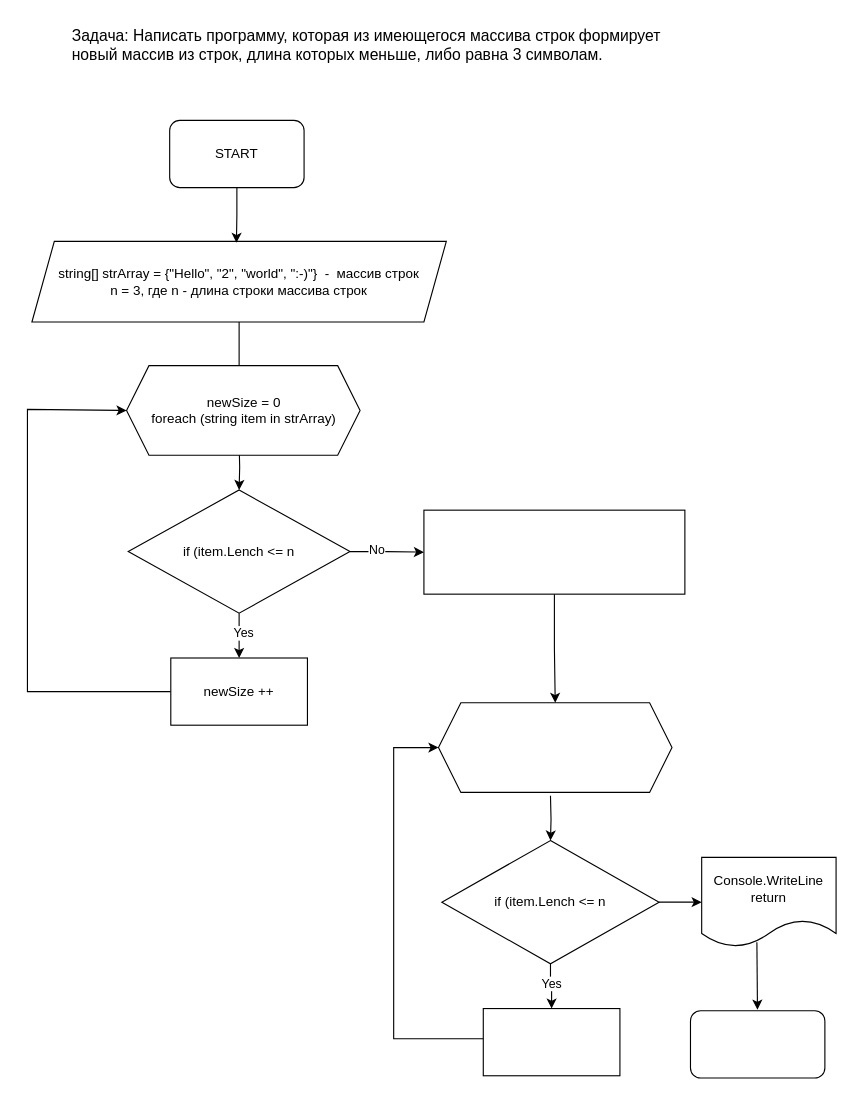
This 856x1098 diagram has some shape labels left out. Each missing label, with the box of its shape:
END: (689, 1010, 825, 1078)
i = 0 foreach (string item in strArray): (437, 702, 672, 792)
newArray[i] = item i ++: (482, 1007, 620, 1076)
string[] newArray = new string[newSize: (423, 509, 685, 594)
